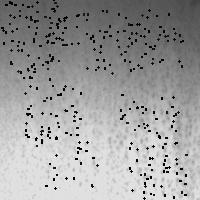pitted_surface: (11, 2, 196, 195), (49, 8, 109, 67), (86, 13, 145, 72), (124, 9, 182, 69), (36, 130, 96, 187), (10, 18, 65, 78), (24, 85, 80, 141), (120, 94, 177, 148), (1, 0, 61, 45), (129, 154, 187, 200)
